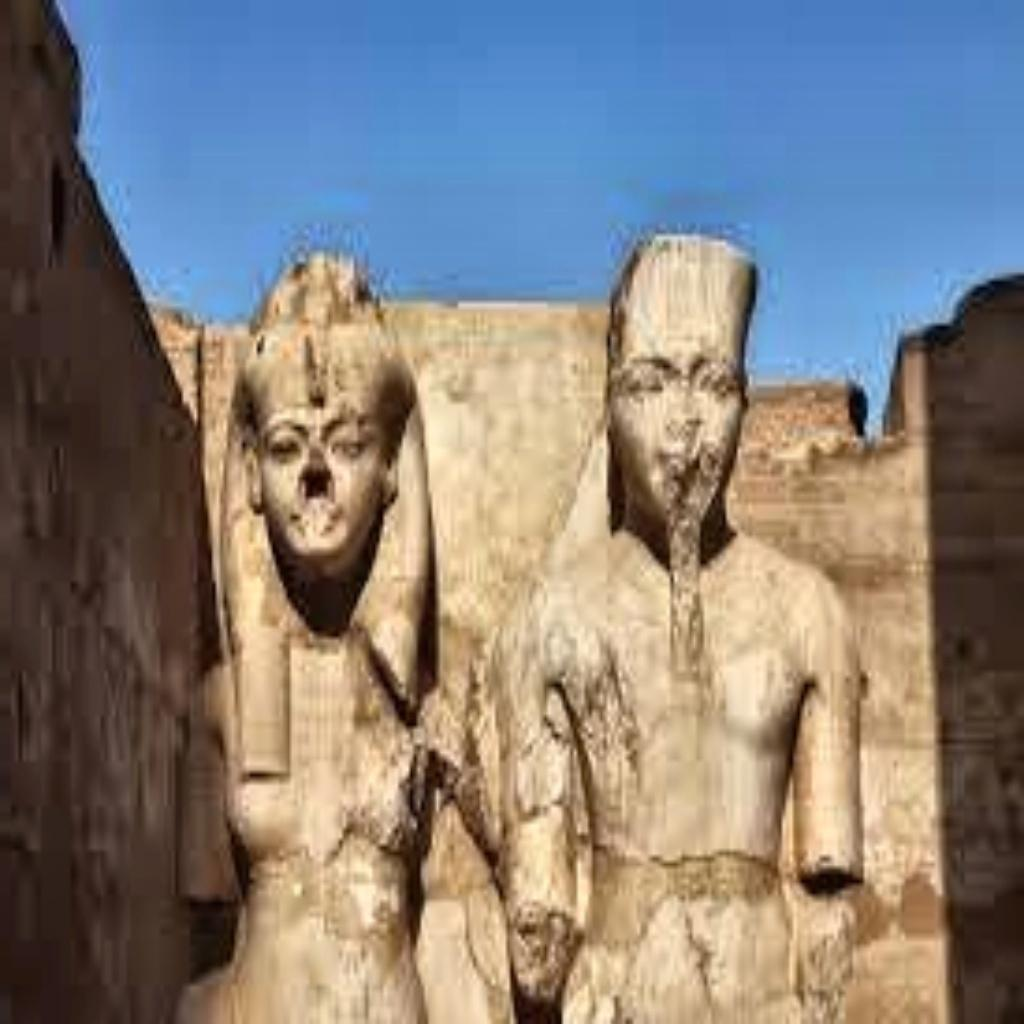Statue of Ankhesenamun: (171, 250, 475, 1018)
Statue of Tutankhamun: (498, 224, 872, 1018)
